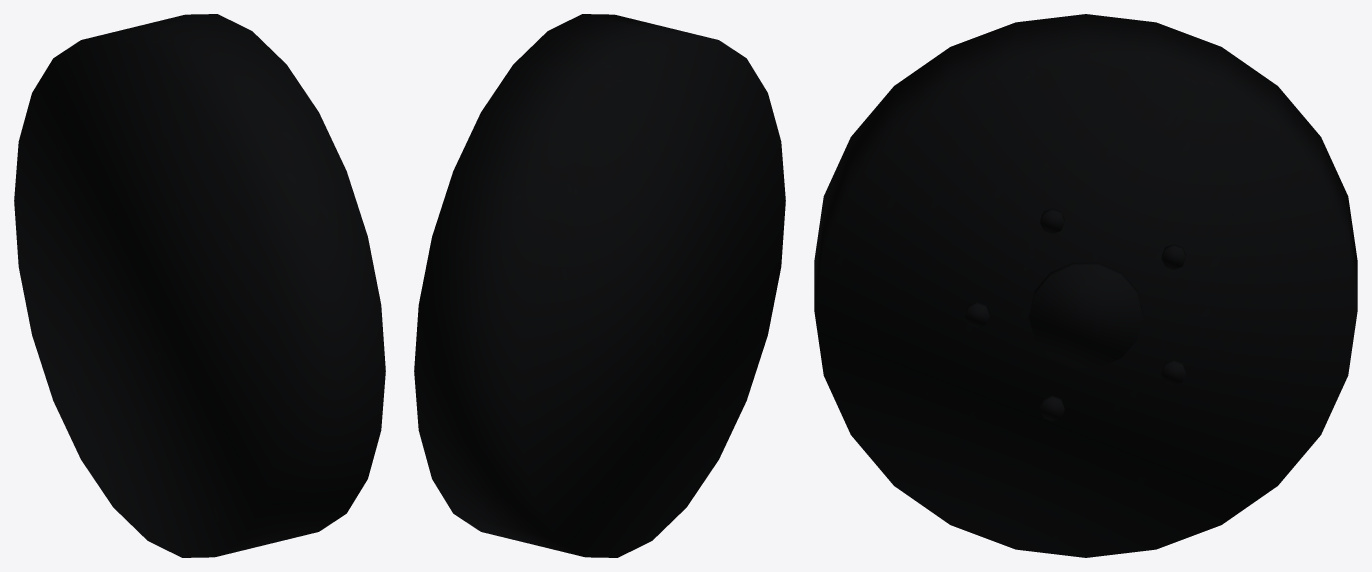
The picture shows the model from 3 angles, left to right: view 1: azimuth 30°, elevation 25°; view 2: azimuth 150°, elevation 25°; view 3: azimuth 270°, elevation 25°; orthographic projection.
Bounding box in the file's own units: 0.311 × 1.24 × 1.24.
Materials: 1 (1 with a texture image).
